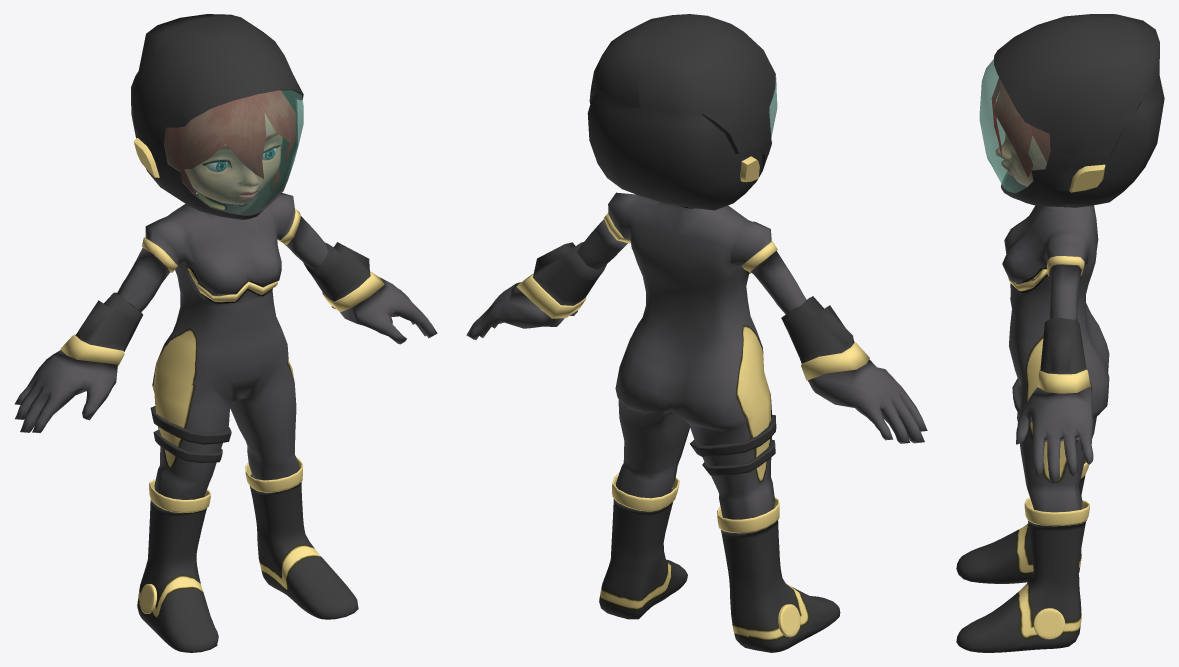
File: Skye 003 (1,65m) textura.FBX
3 renders of one model, left to right at view 1: azimuth 30°, elevation 25°; view 2: azimuth 150°, elevation 25°; view 3: azimuth 270°, elevation 25°, orthographic. The views are drawn at different scales.
Visible parts, largest first — view 1: Body, casc, Cristal001, Monyo; view 2: Body, casc; view 3: Body, casc, Cristal001, Monyo.
Boxes of the visible parts, x1,y1,x2,y2 form: Body: (14, 113, 437, 652); casc: (131, 14, 303, 219); Cristal001: (164, 90, 303, 214); Monyo: (164, 90, 296, 195); Body: (466, 192, 927, 652); casc: (587, 14, 775, 210); Body: (956, 133, 1109, 652); casc: (994, 14, 1164, 207); Cristal001: (979, 59, 1050, 193); Monyo: (991, 78, 1050, 202).
Size of the model in its own units: 128 by 166 by 53.43.
